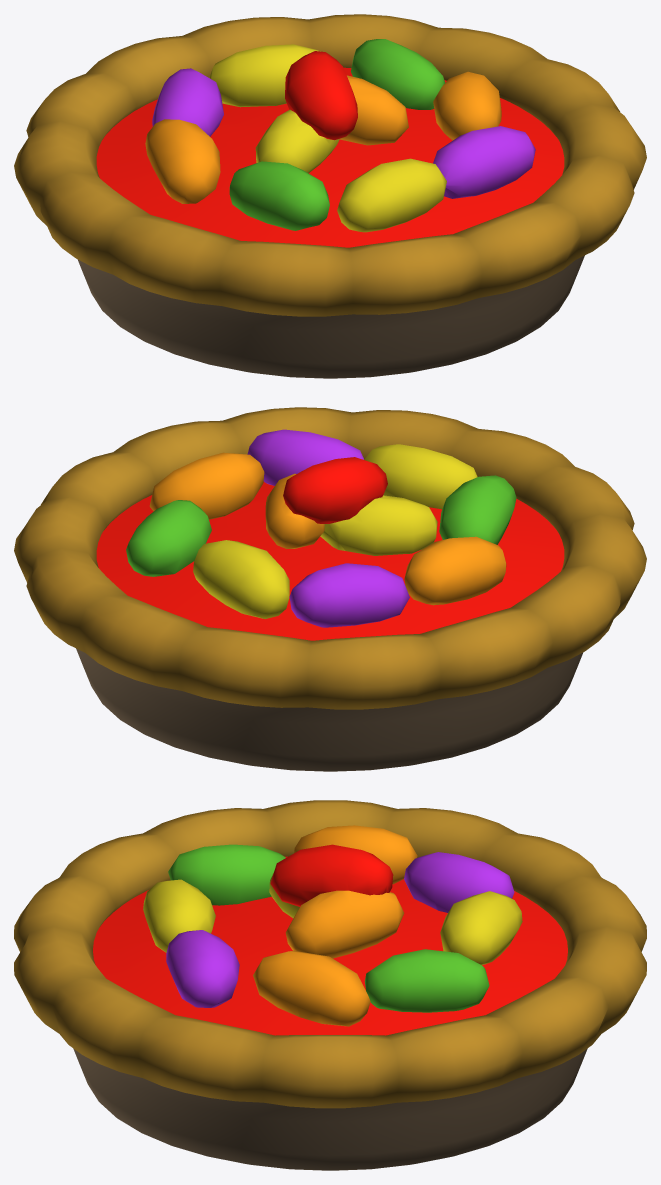
Rendered from Gummy_Crop_Pie.glb.
The picture shows the model from 3 angles, top to bottom: view 1: azimuth 30°, elevation 25°; view 2: azimuth 150°, elevation 25°; view 3: azimuth 270°, elevation 25°; orthographic projection.
Visible parts, largest first — view 1: Gummy_Crop_Pie_Crust, Gummy_Crop_Pie_Fill; view 2: Gummy_Crop_Pie_Crust, Gummy_Crop_Pie_Fill; view 3: Gummy_Crop_Pie_Crust, Gummy_Crop_Pie_Fill.
Part boxes in pixels (bbox=[...]): Gummy_Crop_Pie_Crust: bbox=[14, 14, 646, 378]; Gummy_Crop_Pie_Fill: bbox=[96, 39, 564, 247]; Gummy_Crop_Pie_Crust: bbox=[14, 407, 646, 771]; Gummy_Crop_Pie_Fill: bbox=[96, 429, 564, 640]; Gummy_Crop_Pie_Crust: bbox=[14, 800, 646, 1170]; Gummy_Crop_Pie_Fill: bbox=[93, 825, 567, 1035].
Bounding box in the file's own units: 0.7243 × 0.2734 × 0.7139.
